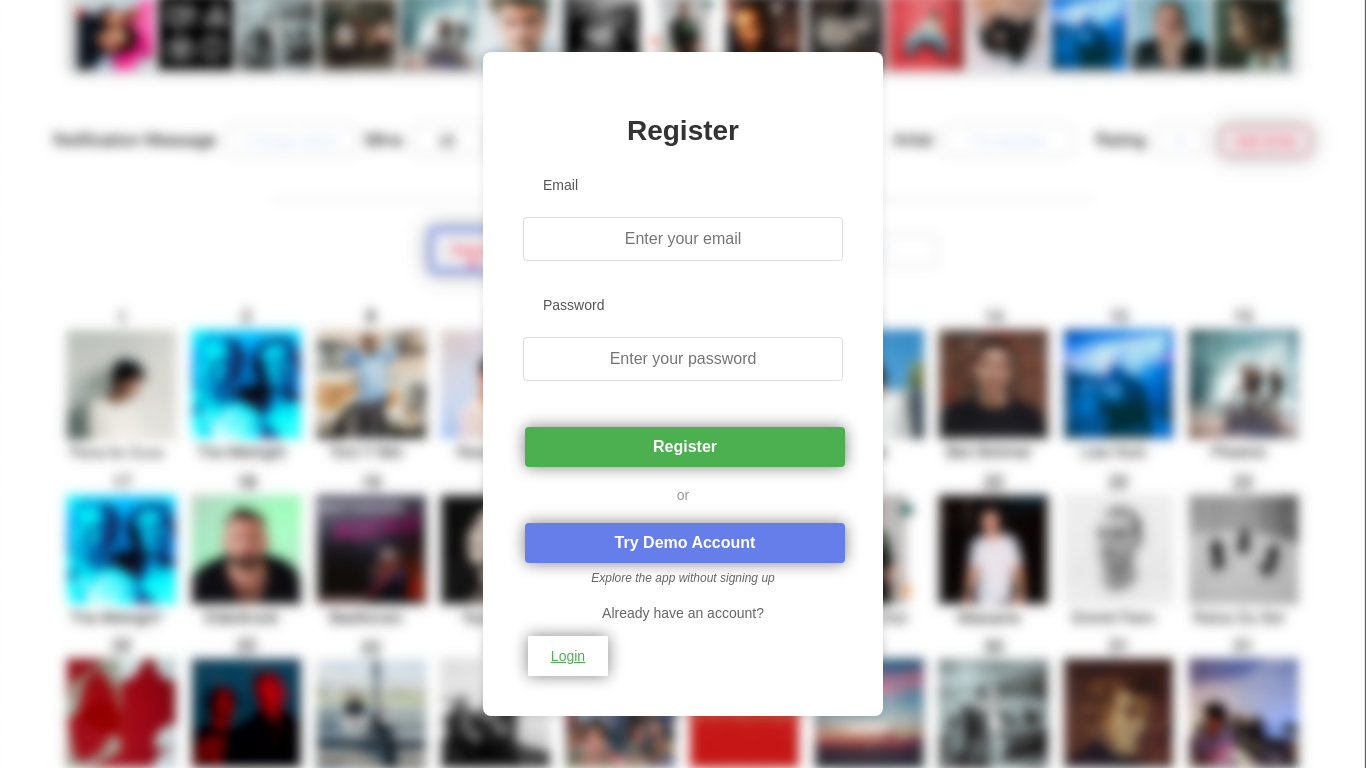
Test: Auth › shows network errors
Type "a@b.com" into the field with placeholder "Enter your email" at [683, 239], box x1=523 y1=217 x2=843 y2=261
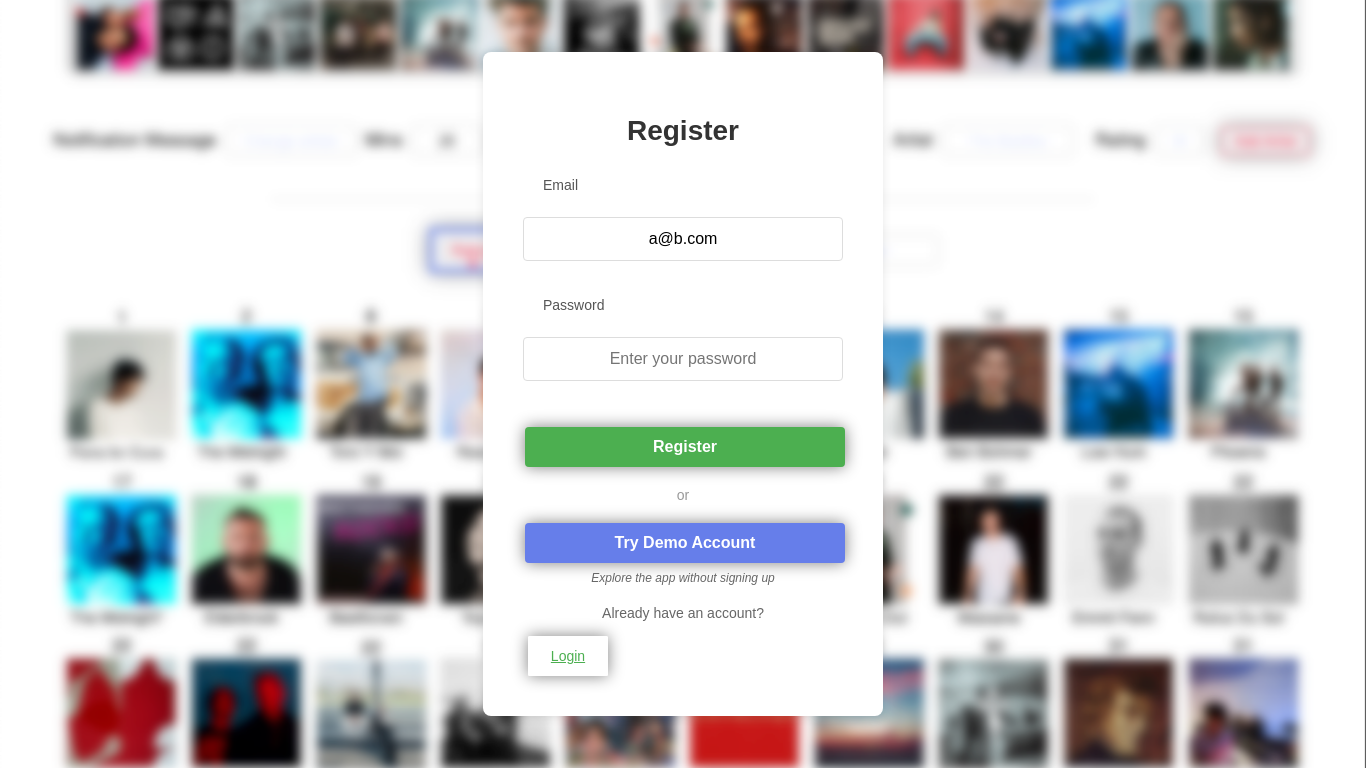
Type "secret1" into the password field with placeholder "Enter your password" at [683, 359], box x1=523 y1=337 x2=843 y2=381
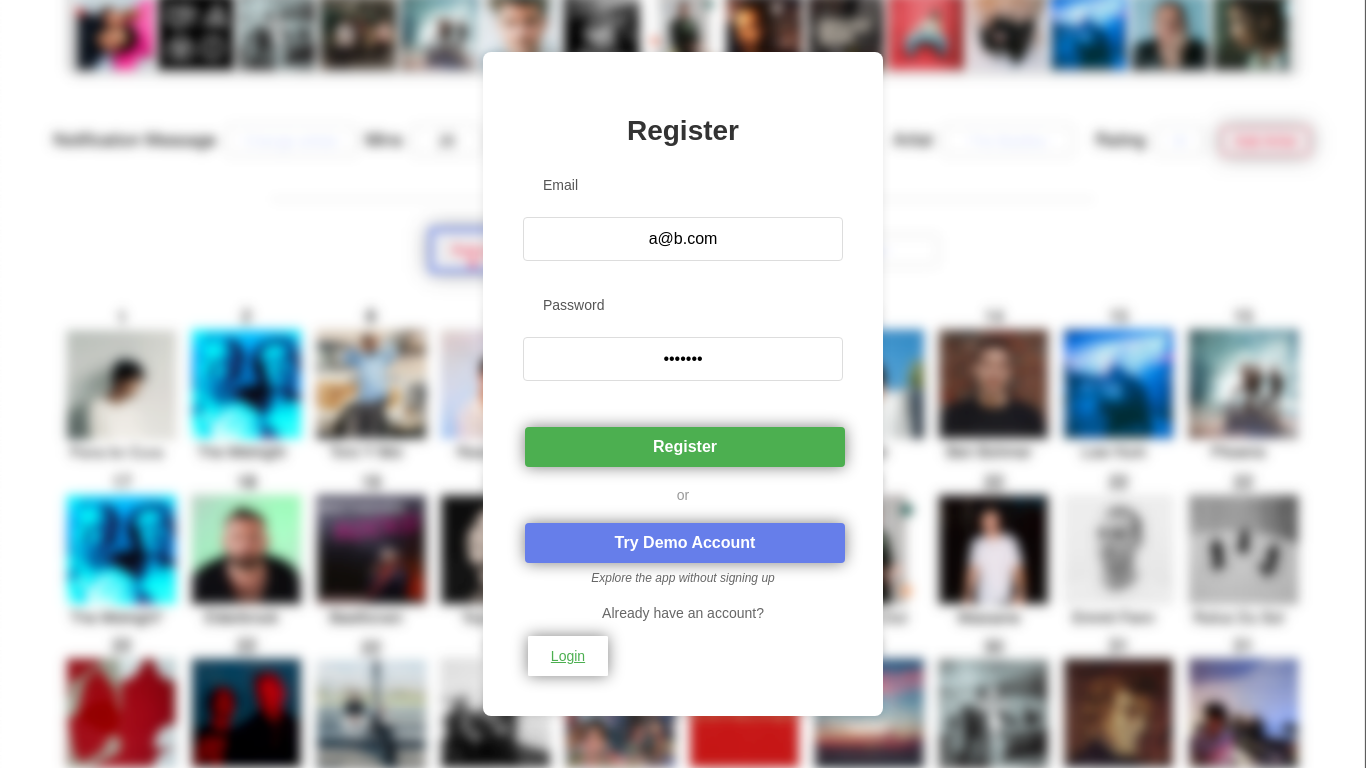
Submit the form with placeholder "Enter your email", box x1=523 y1=177 x2=843 y2=467
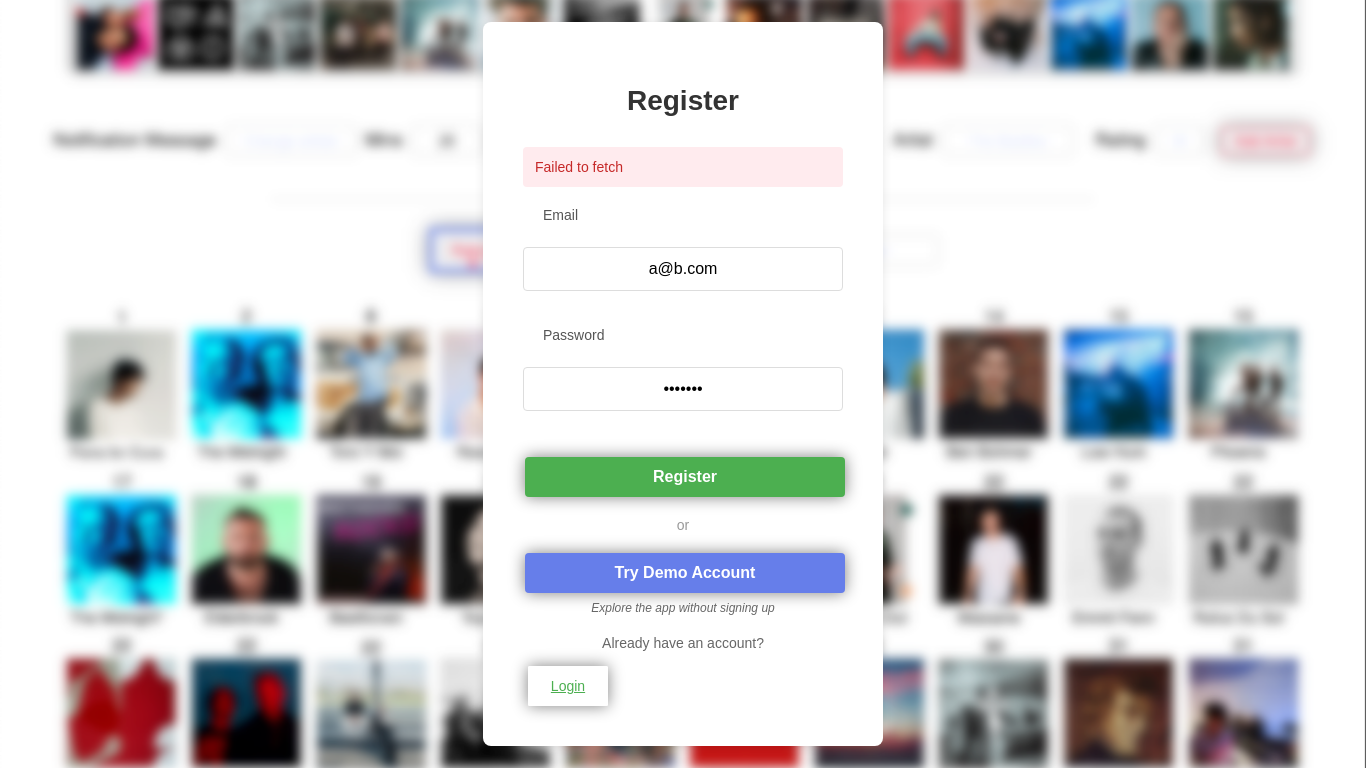
Check: the text "Failed to fetch" is shown, box x1=523 y1=147 x2=843 y2=187
